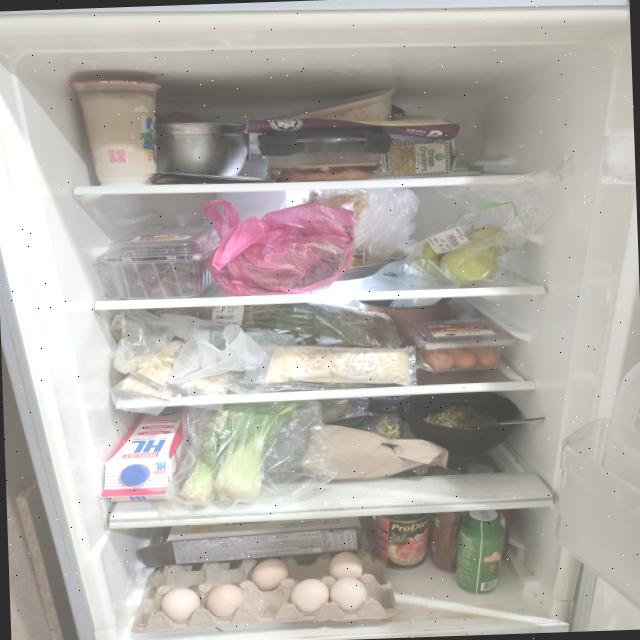apple: (405, 224, 514, 288)
egg: (132, 549, 398, 632)
grape: (130, 244, 200, 298)
leafy_greens: (170, 300, 402, 354)
pakchoy: (176, 399, 314, 506)
tempeh: (112, 335, 235, 402), (260, 341, 411, 391)
unknown_bag: (202, 194, 356, 298)
